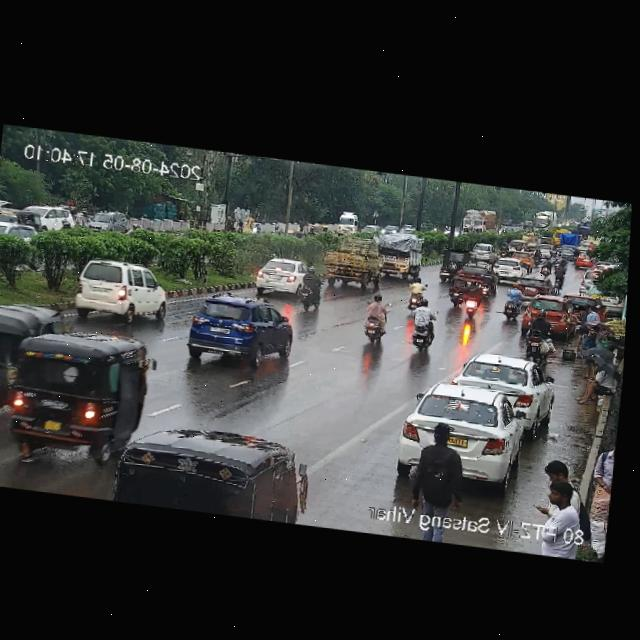bus: (535, 210, 557, 232)
car: (116, 416, 315, 526), (4, 324, 158, 464), (400, 383, 530, 477), (176, 288, 297, 371), (0, 292, 68, 419), (68, 255, 173, 326), (457, 349, 551, 416), (523, 291, 586, 335), (253, 255, 310, 295), (79, 207, 138, 238), (0, 203, 46, 228), (42, 205, 78, 234), (489, 257, 527, 283), (513, 275, 552, 299), (438, 246, 460, 283), (0, 220, 38, 241), (336, 211, 358, 234), (473, 242, 496, 263), (464, 260, 483, 283), (511, 250, 533, 269), (579, 271, 599, 291)
motorcycle: (358, 291, 391, 344), (409, 298, 438, 357), (526, 309, 556, 365), (449, 269, 481, 320), (294, 273, 325, 313), (502, 285, 525, 323), (405, 276, 426, 311), (543, 252, 567, 276), (535, 229, 560, 251), (479, 272, 497, 299), (553, 263, 565, 291), (482, 270, 493, 297), (535, 249, 542, 265)
person: (534, 441, 615, 563), (411, 419, 477, 536), (580, 360, 618, 406), (581, 325, 601, 377), (581, 300, 611, 327)
truck: (327, 236, 386, 292), (379, 231, 426, 278), (460, 206, 496, 237)
